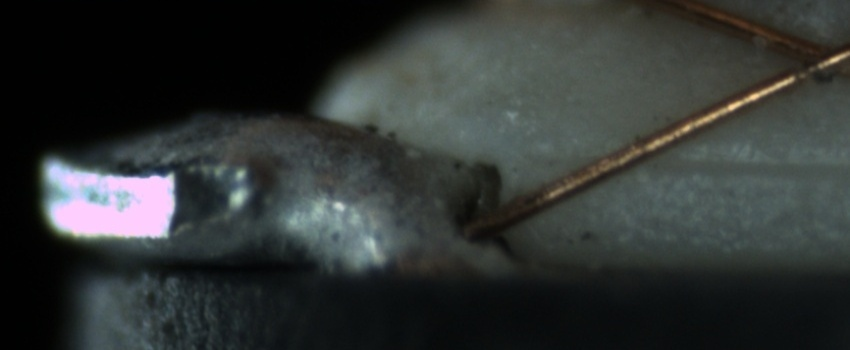CL: (761, 25, 847, 92)
DL: (567, 130, 847, 199)
